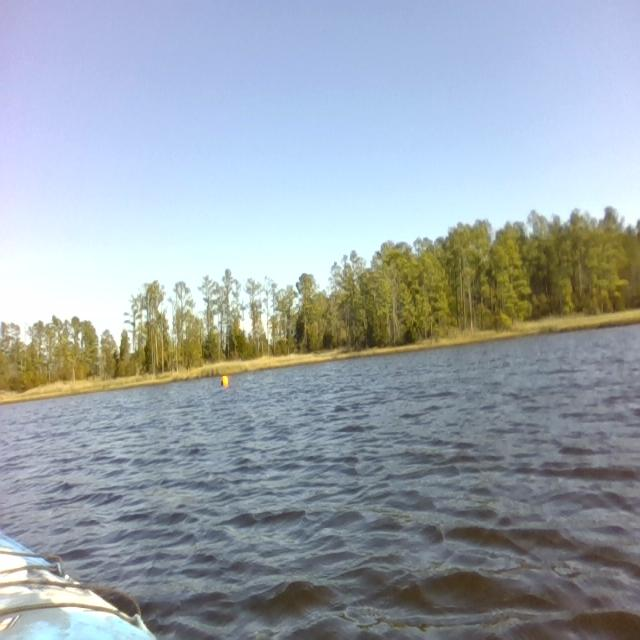Buoy: (218, 366, 229, 394)
